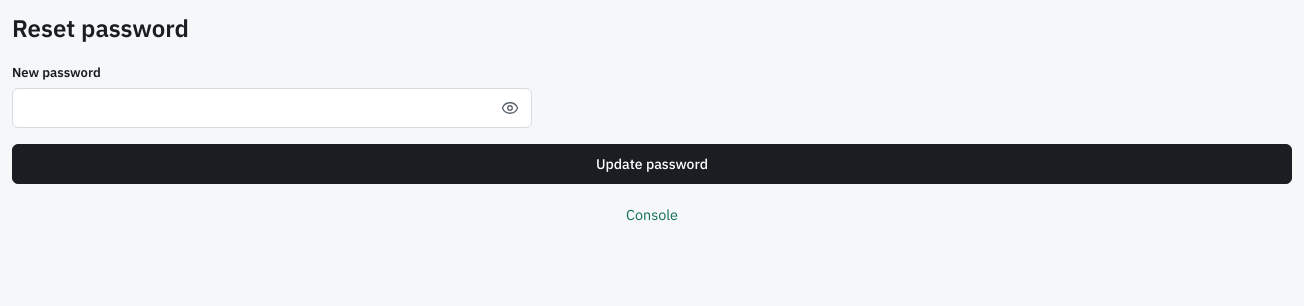
it: ResetPasswordForm › shows generic failure copy without provider traces
Type "short" into the password field labelled "New password" at (272, 108), box [12,88,532,128]
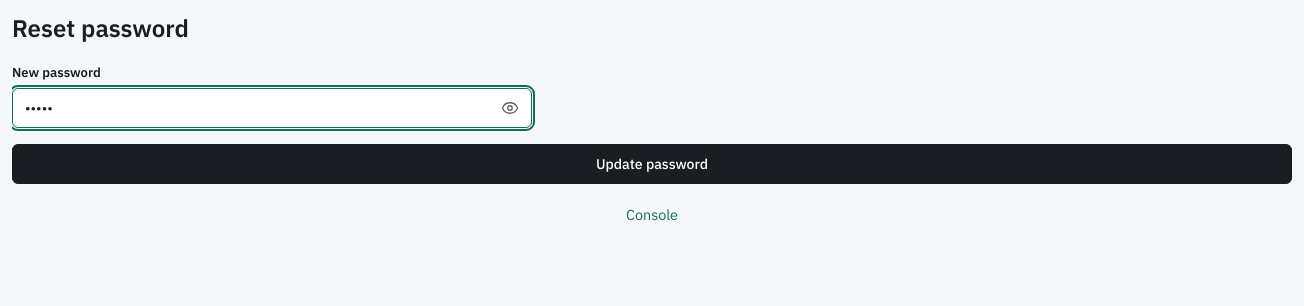
Click the button "Update password" at (652, 164), box [12,144,1292,184]
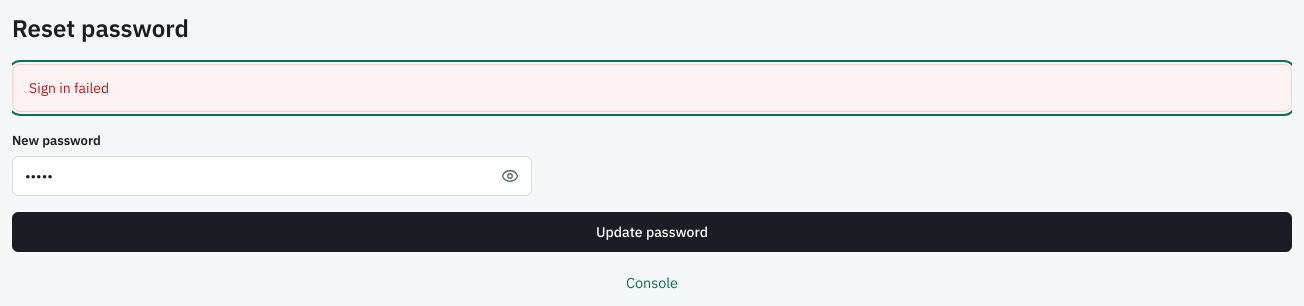
Expected: the message reads "Sign in failed", [29,79,109,97]
